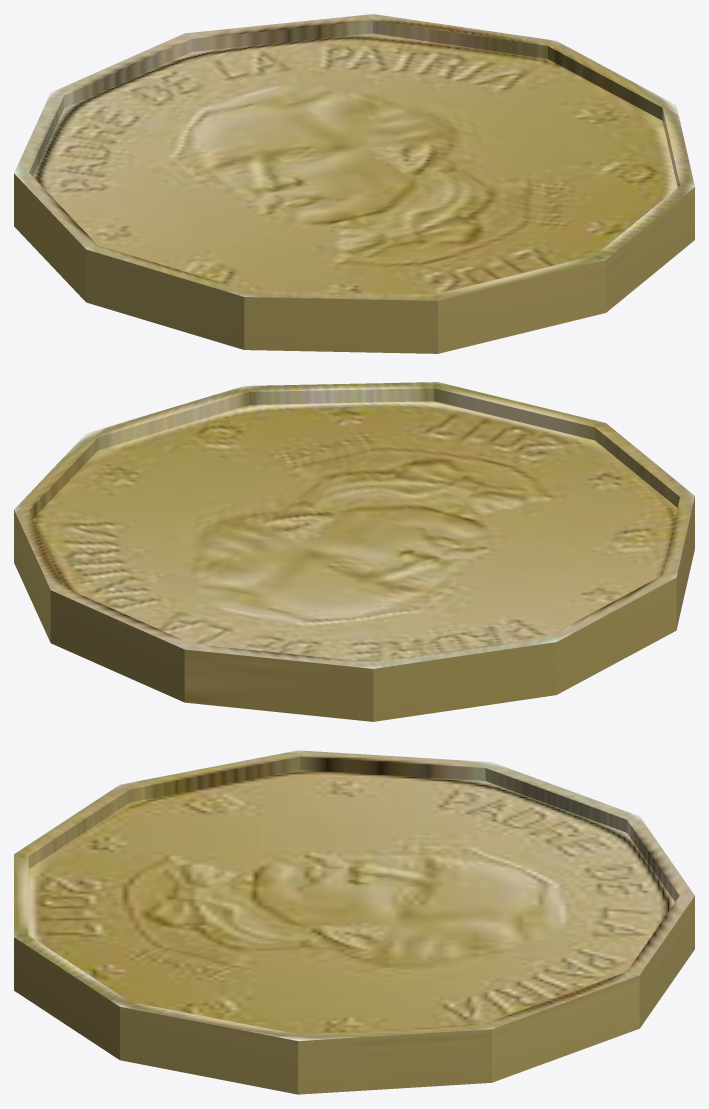
Rendered from moneda .fbx.
3 views of the same model, one above another, from view 1: azimuth 30°, elevation 25°; view 2: azimuth 150°, elevation 25°; view 3: azimuth 270°, elevation 25° (orthographic).
Parts seen in each view (by area): view 1: Cylinder; view 2: Cylinder; view 3: Cylinder.
Boxes of the visible parts, bbox=[...] form: Cylinder: bbox=[14, 14, 694, 353]; Cylinder: bbox=[14, 382, 694, 721]; Cylinder: bbox=[14, 750, 694, 1094].
Size of the model in its own units: 198 by 17 by 196.
